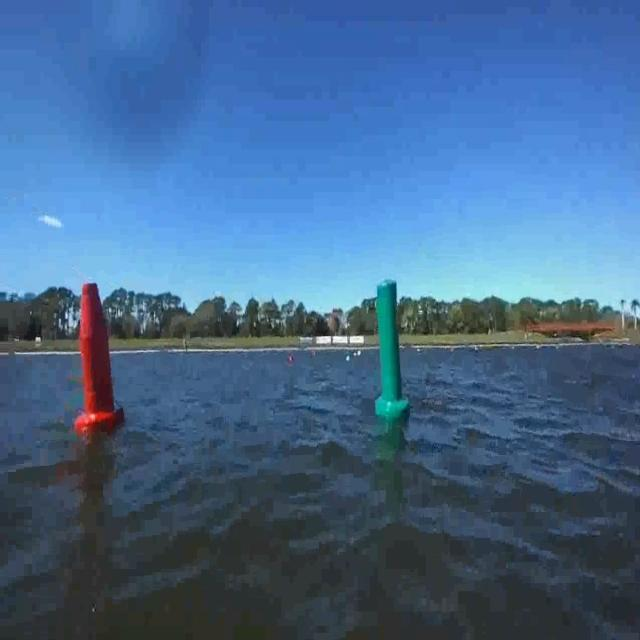green-column-buoy: (372, 275, 407, 417)
red-column-buoy: (74, 280, 122, 434)
